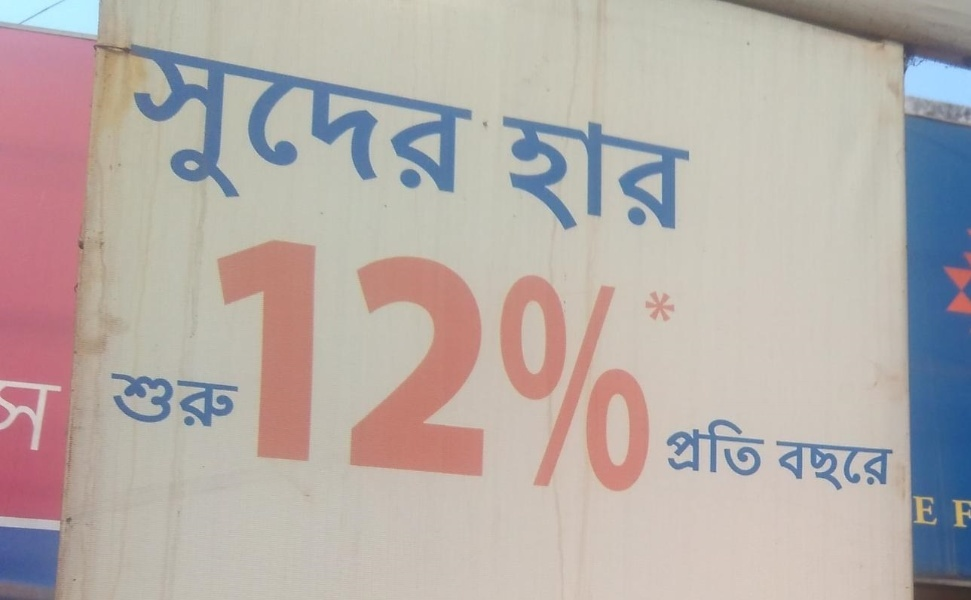text: (225, 233, 240, 497), (241, 233, 256, 497), (257, 233, 272, 497), (273, 233, 288, 497), (289, 233, 304, 497), (305, 233, 320, 497), (321, 233, 336, 497), (337, 233, 352, 497), (353, 233, 368, 497), (369, 233, 384, 497), (385, 233, 400, 497), (401, 233, 416, 497), (417, 233, 432, 497), (433, 233, 448, 497), (449, 233, 464, 497), (465, 233, 480, 497), (481, 233, 496, 497), (497, 233, 512, 497), (513, 233, 528, 497), (529, 233, 544, 497), (545, 233, 560, 497), (561, 233, 576, 497), (577, 233, 592, 497), (593, 233, 608, 497), (609, 233, 624, 497), (625, 233, 640, 497), (641, 233, 656, 497), (657, 233, 672, 497), (673, 233, 688, 497), (145, 44, 160, 206), (161, 44, 176, 206), (177, 44, 192, 206), (193, 44, 208, 206), (209, 44, 224, 206), (225, 44, 240, 206), (241, 44, 256, 206), (257, 44, 272, 206), (273, 44, 288, 206), (289, 44, 304, 206), (305, 44, 320, 206), (321, 44, 336, 206), (337, 44, 352, 206), (353, 44, 368, 206), (369, 44, 384, 206), (385, 44, 400, 206), (401, 44, 416, 206), (417, 44, 432, 206), (433, 44, 448, 206), (449, 44, 464, 206), (215, 233, 224, 497), (131, 44, 144, 206), (465, 44, 478, 206), (513, 98, 528, 233), (529, 98, 544, 233), (545, 98, 560, 233), (561, 98, 576, 233), (577, 98, 592, 233), (593, 98, 608, 233), (609, 98, 624, 233), (625, 98, 640, 233), (641, 98, 656, 233), (657, 98, 672, 233), (673, 98, 688, 233), (501, 98, 512, 233), (17, 382, 32, 454), (33, 382, 48, 454), (49, 382, 64, 454), (753, 415, 769, 482), (673, 415, 688, 482), (689, 415, 704, 482), (705, 415, 720, 482), (721, 415, 736, 482), (737, 415, 752, 482), (113, 372, 128, 435), (129, 372, 144, 435), (145, 372, 160, 435), (161, 372, 176, 435), (177, 372, 192, 435), (193, 372, 208, 435), (209, 372, 224, 435), (3, 382, 16, 454), (225, 372, 239, 435), (785, 437, 800, 493), (801, 437, 816, 493), (817, 437, 832, 493), (833, 437, 848, 493), (849, 437, 864, 493), (865, 437, 880, 493), (881, 437, 896, 493), (689, 98, 694, 233), (772, 437, 784, 493), (689, 233, 691, 497), (929, 496, 944, 529), (945, 496, 960, 529), (65, 382, 71, 454), (918, 496, 928, 529), (668, 415, 672, 482), (961, 496, 967, 529), (111, 372, 112, 435), (897, 437, 898, 493)
